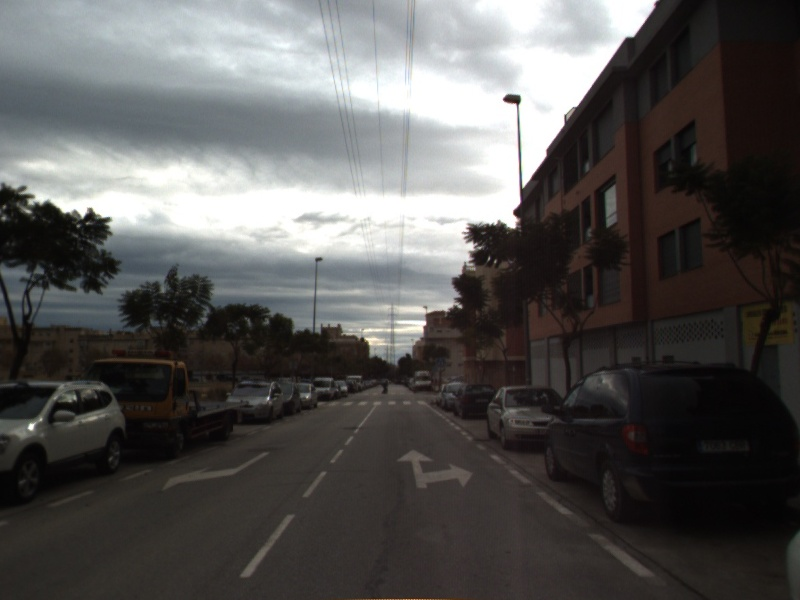STRAIGHT_RIGHT: (395, 447, 476, 490)
